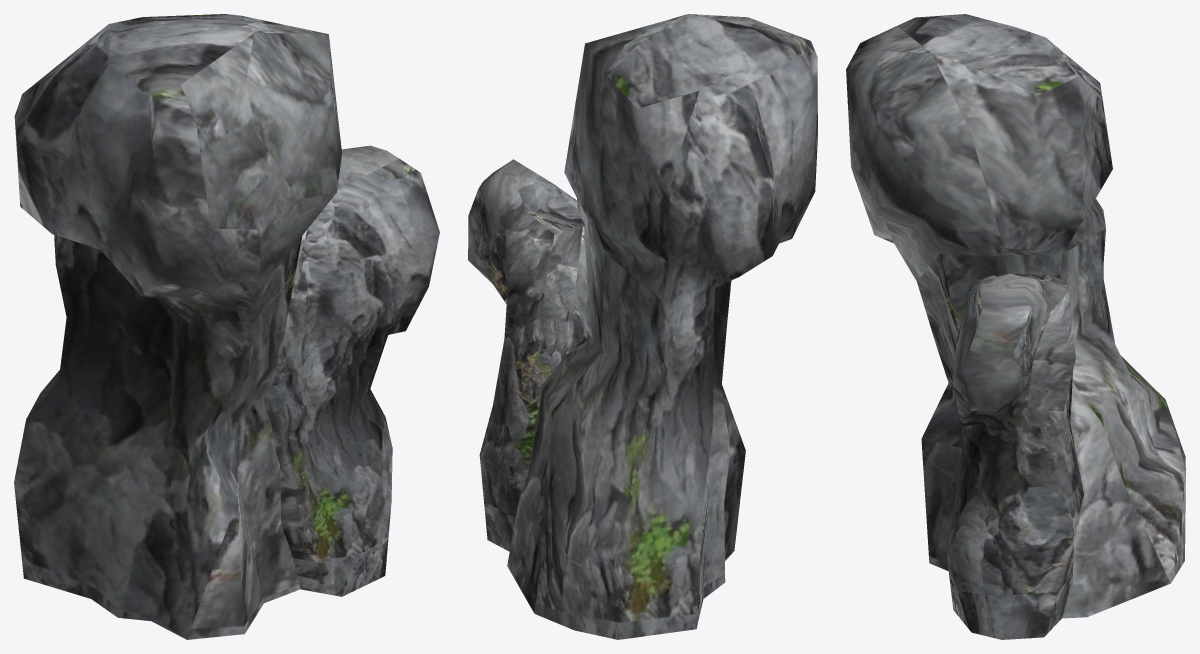
Rendered from furni_0200927.FBX.
3 views of the same model, side by side, from view 1: azimuth 30°, elevation 25°; view 2: azimuth 150°, elevation 25°; view 3: azimuth 270°, elevation 25° (orthographic). The views are drawn at different scales.
Visible parts, largest first — view 1: furni_0200927; view 2: furni_0200927; view 3: furni_0200927.
Boxes of the visible parts, x1=… form: furni_0200927: x1=14, y1=14, x2=439, y2=639; furni_0200927: x1=468, y1=14, x2=817, y2=639; furni_0200927: x1=846, y1=14, x2=1185, y2=639.
Bounding box in the file's own units: 89.35 × 137 × 81.83.
Materials: 1 (1 with a texture image).
